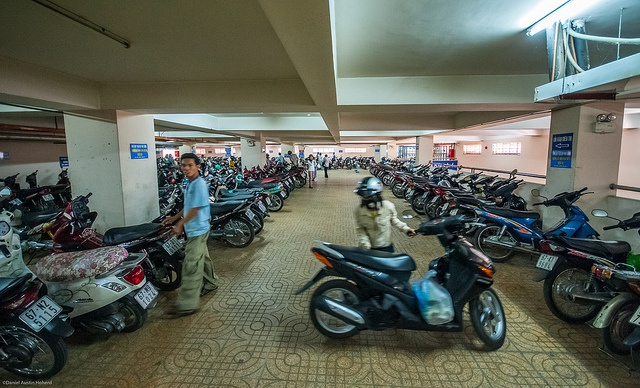non-vehicle: (293, 215, 506, 350), (49, 185, 188, 291), (531, 209, 640, 324), (35, 246, 158, 336), (471, 183, 600, 260), (0, 273, 75, 379), (151, 182, 261, 247), (436, 166, 519, 218), (445, 179, 531, 224), (212, 173, 273, 209), (232, 170, 286, 210), (243, 164, 290, 200), (208, 193, 271, 218)
